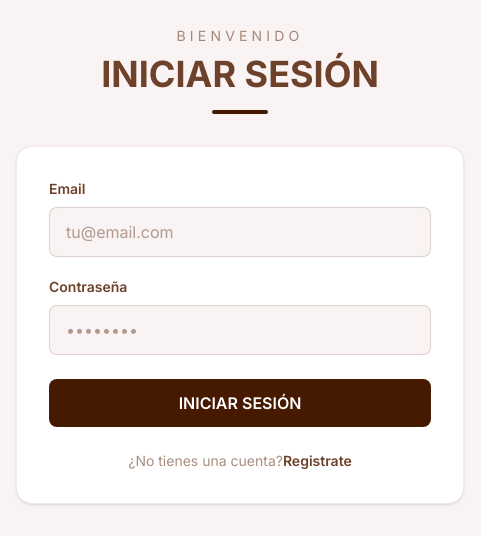
Login › credenciales incorrectas: muestra el error y limpia los campos
Type "ana@gmail.com" into the field labelled "Email" at (240, 232), box [49,207,431,257]
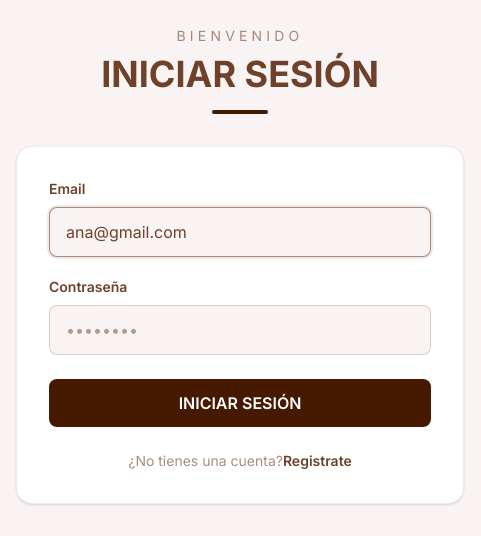
Type "malaclave" into the password field labelled "Contraseña" at (240, 330), box [49,305,431,355]
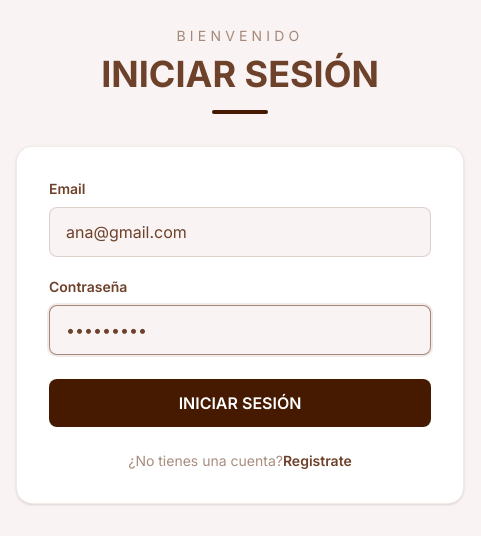
Click the button "INICIAR SESIÓN" at (240, 403), box [49,379,431,427]
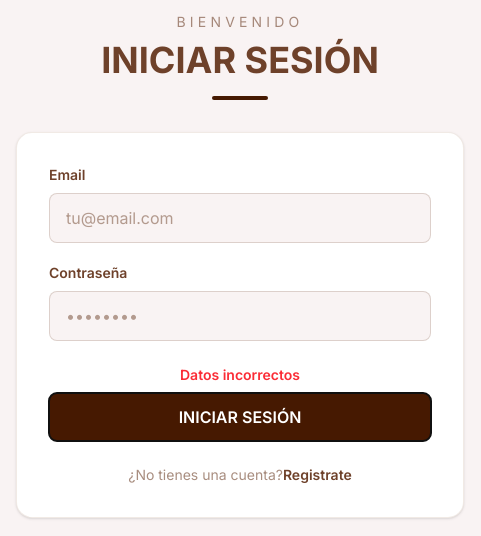
expect the text "Datos incorrectos" is shown: met, box [180,366,300,383]
